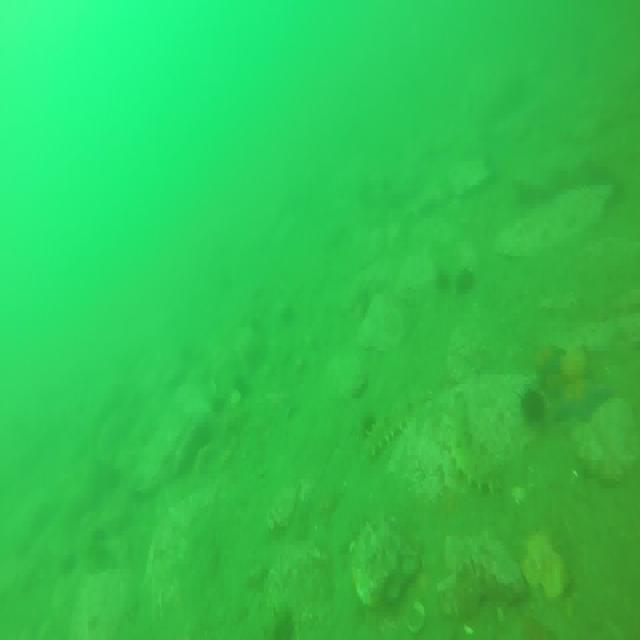echinus: (522, 384, 548, 426), (458, 266, 476, 292), (436, 274, 450, 294)
holothurian: (452, 408, 501, 494), (368, 401, 414, 456)
starfish: (554, 373, 612, 422)
